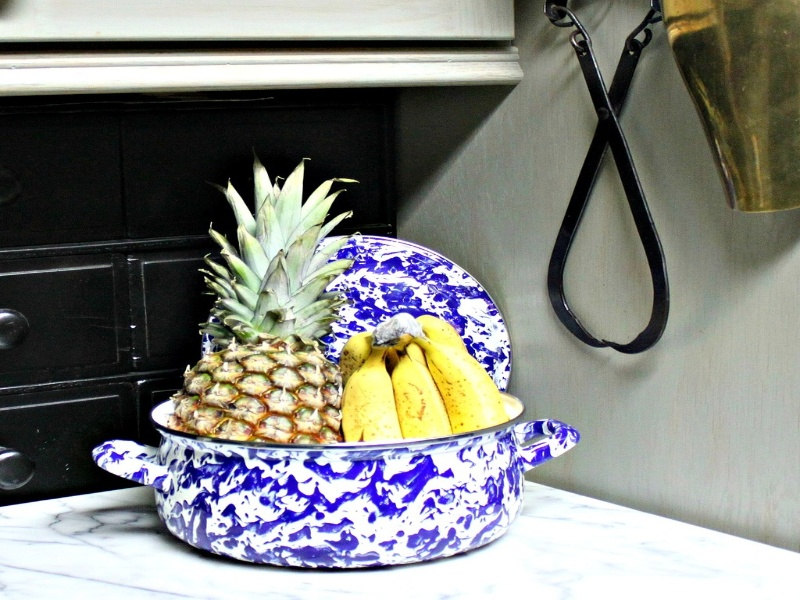banana: (347, 314, 496, 432)
